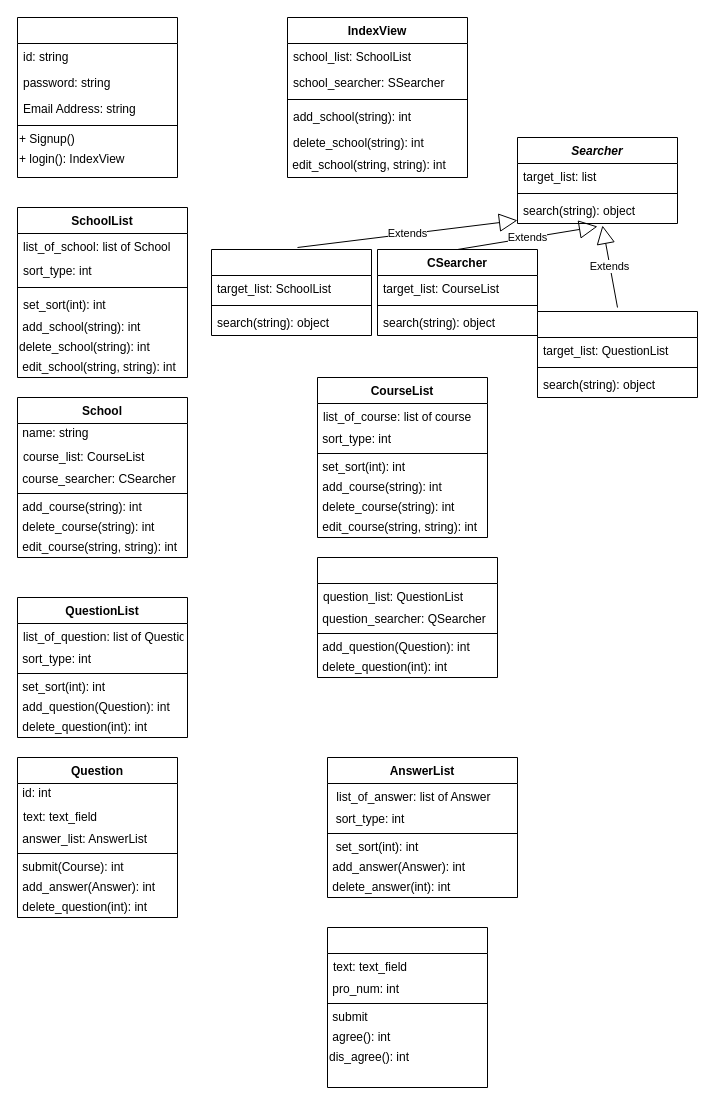
Image size: 715x1105. Some labels were removed from this diagram. Here are the shapes that lost their labels. From the top down, the box of each, then its label:
(16, 16, 178, 178): SignInSystem
(210, 248, 372, 336): SSearcher
(536, 310, 698, 398): QSearcher
(316, 556, 498, 678): Course
(326, 926, 488, 1088): Answer
